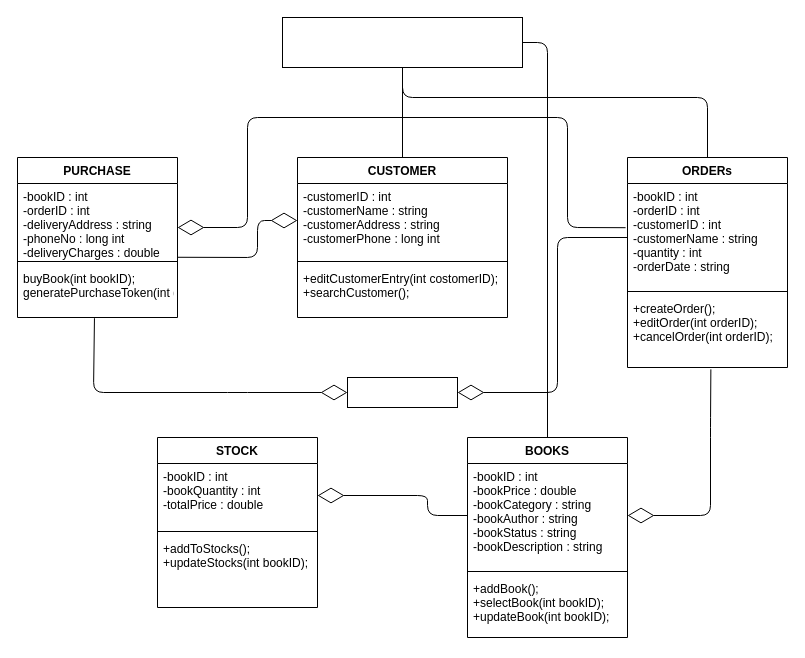
The diagram is 805 pixels wide and 658 high, and some of its shapes have lost their labels. The shapes that lost their labels are listed below. From the top down, each one's centre as x and y in pixels, then its label:
At (x=402, y=42): "ONLINE BOOK-STORE MGNT SYSTEM".
At (x=402, y=392): "SHOPPING CART".
